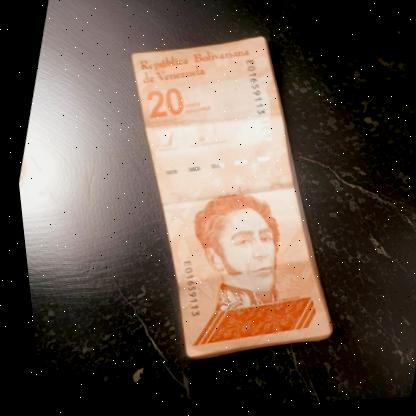twenty-front-vef: (50, 0, 399, 398)
